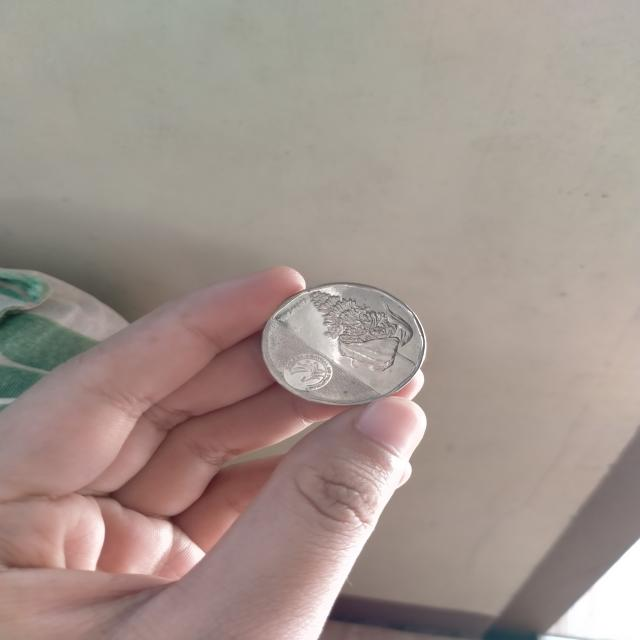10_New_Back: (296, 283, 420, 367)
